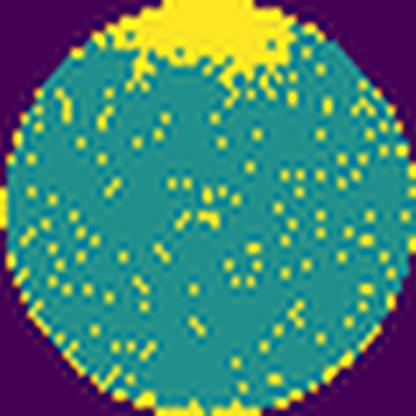Edge-Loc: (99, 0, 301, 80)
